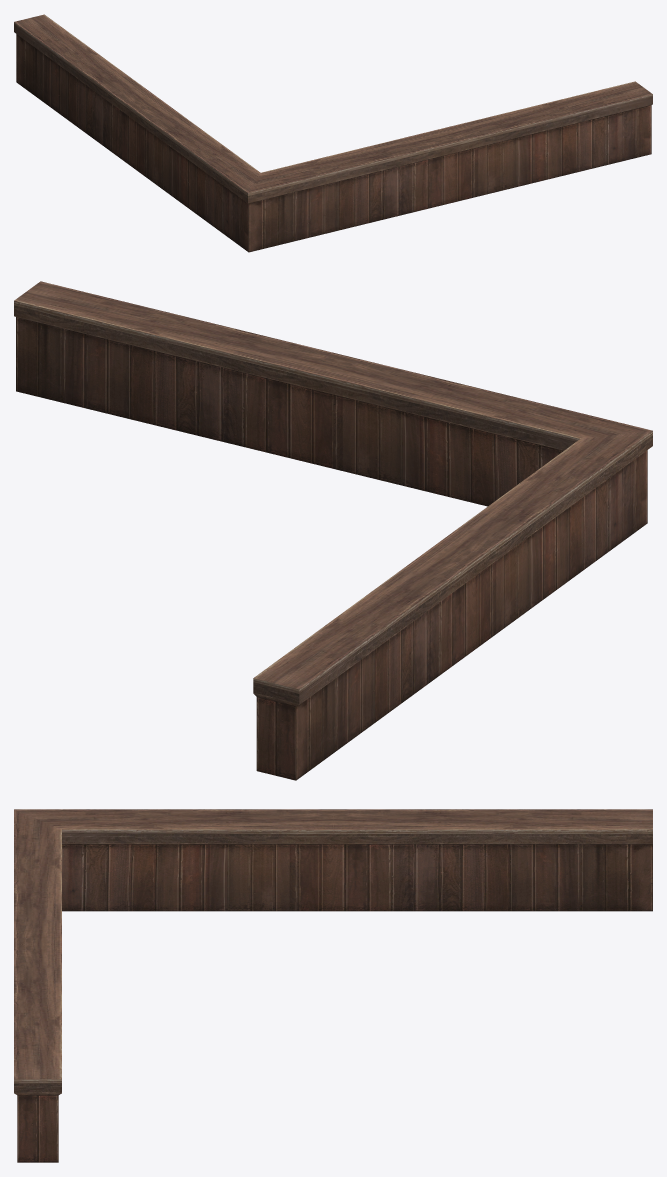
The model's file is bg_lut_lucastle_houseinborder01b_sm_phs.FBX.
3 renders of one model, top to bottom at view 1: azimuth 30°, elevation 25°; view 2: azimuth 150°, elevation 25°; view 3: azimuth 270°, elevation 25°, orthographic. The views are drawn at different scales.
Visible parts, largest first — view 1: bg_lut_lucastle_houseinborder01b_sm_phs; view 2: bg_lut_lucastle_houseinborder01b_sm_phs; view 3: bg_lut_lucastle_houseinborder01b_sm_phs.
Part boxes in pixels (x1,y1,x2,y2): bg_lut_lucastle_houseinborder01b_sm_phs: (14, 14, 652, 252); bg_lut_lucastle_houseinborder01b_sm_phs: (14, 281, 652, 780); bg_lut_lucastle_houseinborder01b_sm_phs: (14, 809, 652, 1162).
Size of the model in its own units: 384 by 55.15 by 384.
